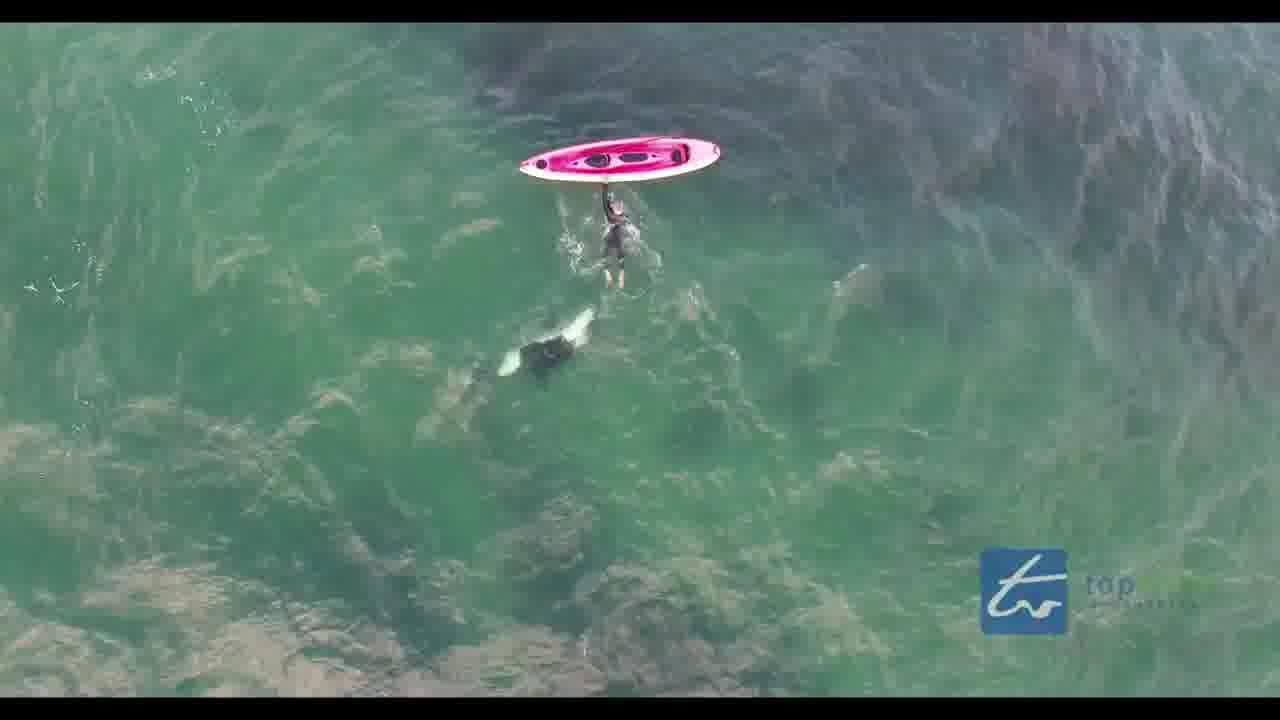swimmer: (592, 178, 641, 292)
